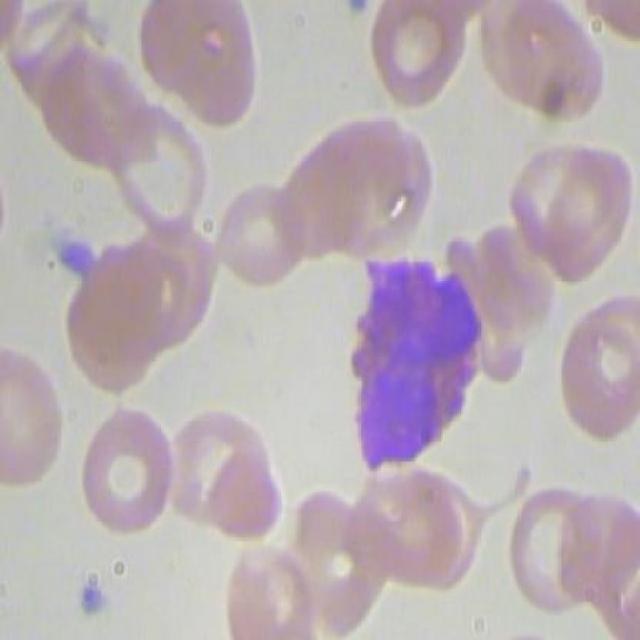Platelets: (65, 565, 110, 624), (51, 234, 100, 281)
RBC: (472, 1, 610, 127), (362, 464, 486, 594), (137, 1, 261, 130), (532, 143, 638, 285), (108, 102, 210, 245), (74, 401, 178, 539), (506, 478, 606, 617), (557, 288, 638, 454), (364, 1, 471, 110), (214, 179, 308, 286), (2, 345, 69, 492), (224, 538, 314, 638), (204, 442, 284, 536)
WBC: (337, 247, 492, 496)
